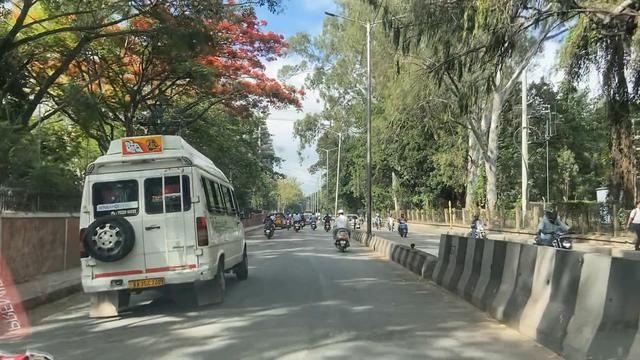HMV: (76, 141, 248, 314)
